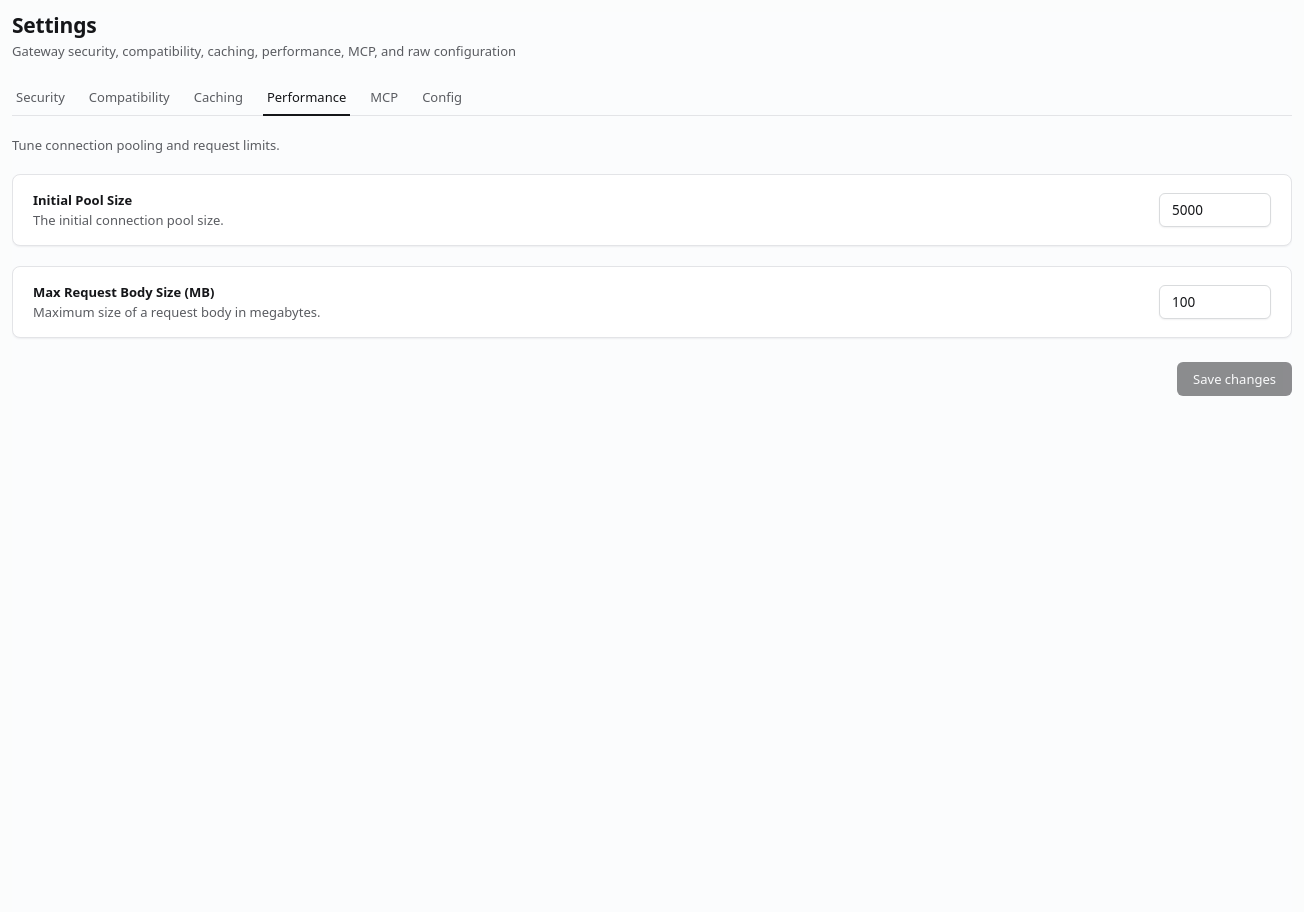
Test: SettingsView MCP + Code Mode VFS › renders the tuning fields and the generated VFS preview
The image size is (1304, 912).
Click the tab "MCP".
click(384, 98)  # box top-left (366, 80), bottom-right (402, 116)
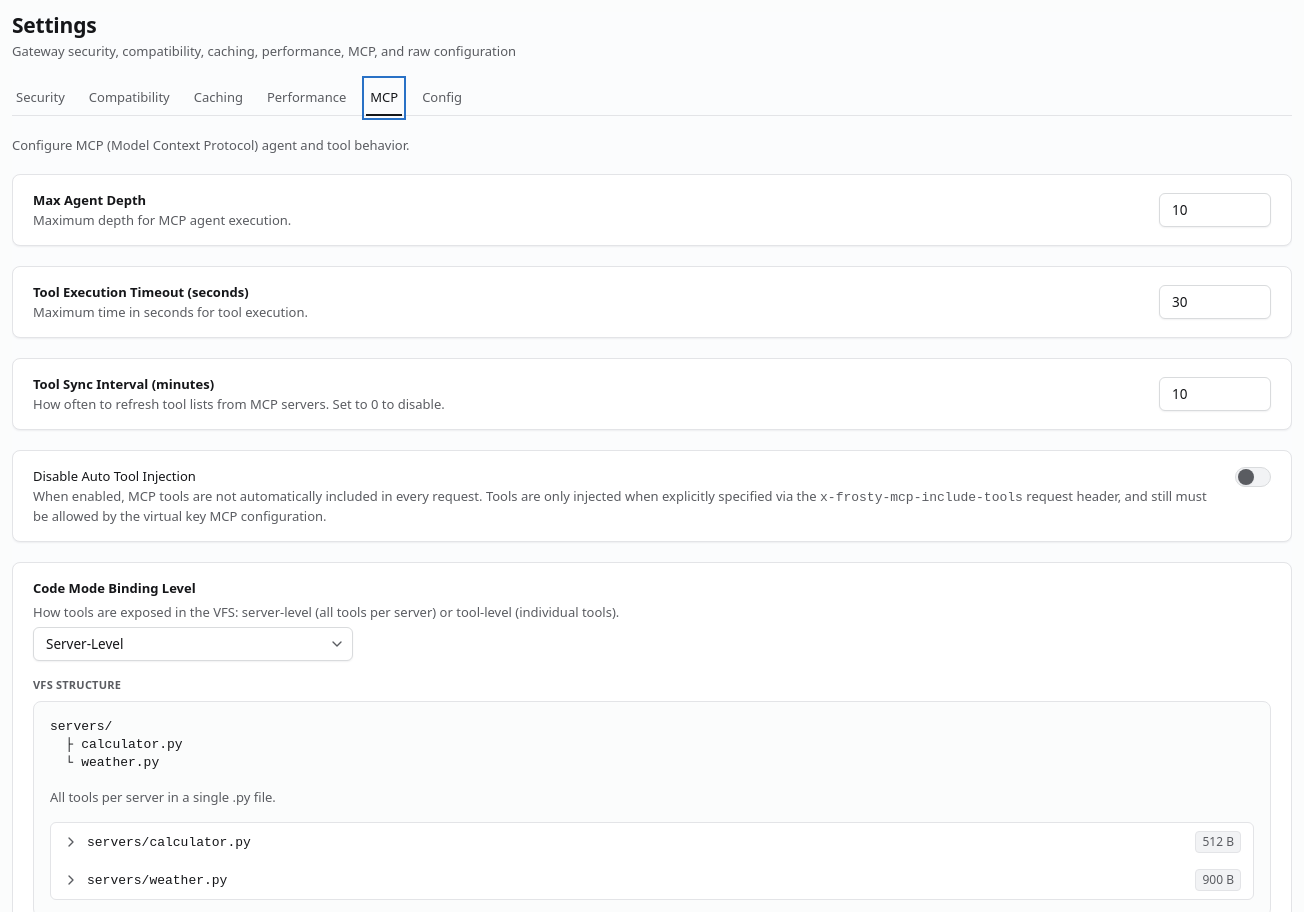
Expected: the number field labelled "Max Agent Depth" holds "10", top-left (1159, 193), bottom-right (1271, 227)
Expected: the switch named "Disable Auto Tool Injection" is shown, top-left (1235, 467), bottom-right (1271, 487)
Expected: the text "servers/" is shown, top-left (50, 719), bottom-right (112, 734)
